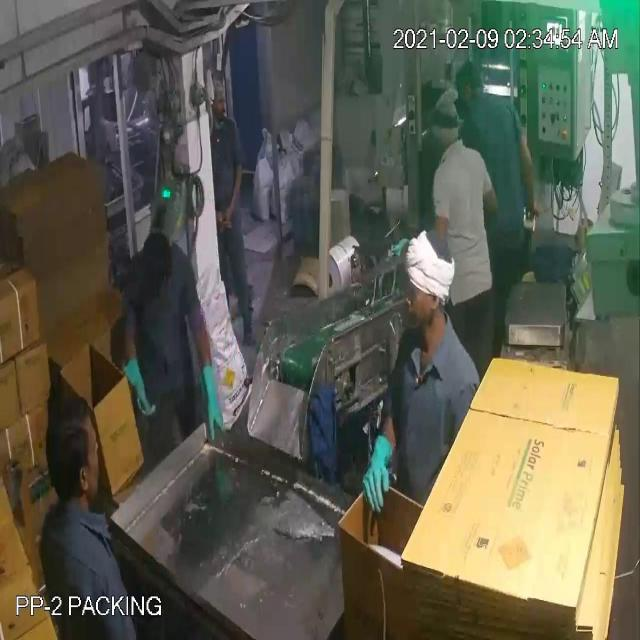Gloves: (36, 72, 530, 475)
